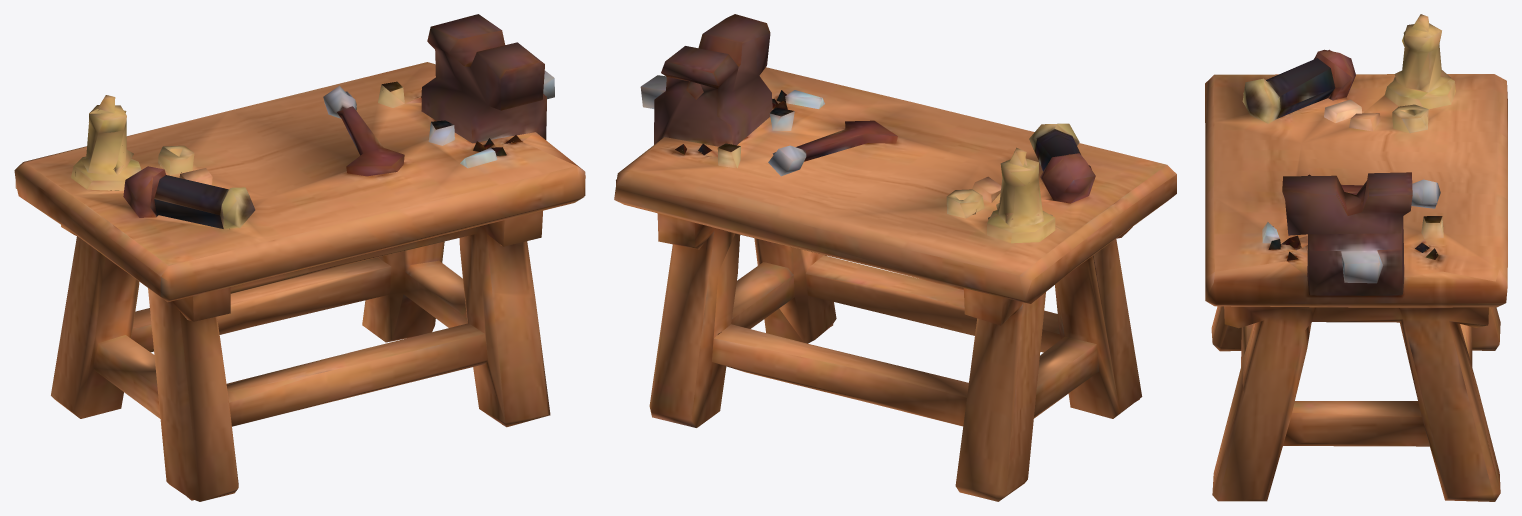
File: lg-workshop-bench.glb
The picture shows the model from 3 angles, left to right: view 1: azimuth 30°, elevation 25°; view 2: azimuth 150°, elevation 25°; view 3: azimuth 270°, elevation 25°; orthographic projection.
Visible parts, largest first — view 1: geometry_0; view 2: geometry_0; view 3: geometry_0.
Boxes of the visible parts, x1,y1,x2,y2 form: geometry_0: (14,14,585,501); geometry_0: (614,14,1176,501); geometry_0: (1205,14,1507,501).
Bounding box in the file's own units: 1 × 0.6784 × 0.5752.
Materials: 1 (1 with a texture image).
